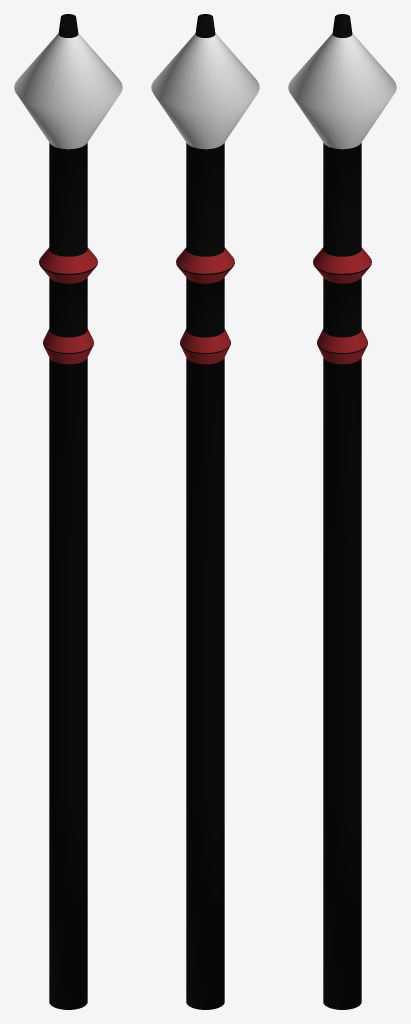
The model's file is faro.obj.
The picture shows the model from 3 angles, left to right: view 1: azimuth 90°, elevation 25°; view 2: azimuth 210°, elevation 25°; view 3: azimuth 270°, elevation 25°; orthographic projection.
Parts seen in each view (by area): view 1: Cylinder_Cylinder_negro, Cylinder_Cylinder_blanco, Cylinder_Cylinder_rojo; view 2: Cylinder_Cylinder_negro, Cylinder_Cylinder_blanco, Cylinder_Cylinder_rojo; view 3: Cylinder_Cylinder_negro, Cylinder_Cylinder_blanco, Cylinder_Cylinder_rojo.
Boxes of the visible parts, x1,y1,x2,y2 form: Cylinder_Cylinder_negro: (39, 14, 97, 1009); Cylinder_Cylinder_blanco: (14, 33, 122, 149); Cylinder_Cylinder_rojo: (39, 247, 97, 364); Cylinder_Cylinder_negro: (176, 14, 234, 1009); Cylinder_Cylinder_blanco: (151, 33, 259, 149); Cylinder_Cylinder_rojo: (176, 247, 234, 364); Cylinder_Cylinder_negro: (313, 14, 371, 1009); Cylinder_Cylinder_blanco: (288, 33, 396, 149); Cylinder_Cylinder_rojo: (313, 247, 371, 364).
Bounding box in the file's own units: 0.3 × 3 × 0.3.
